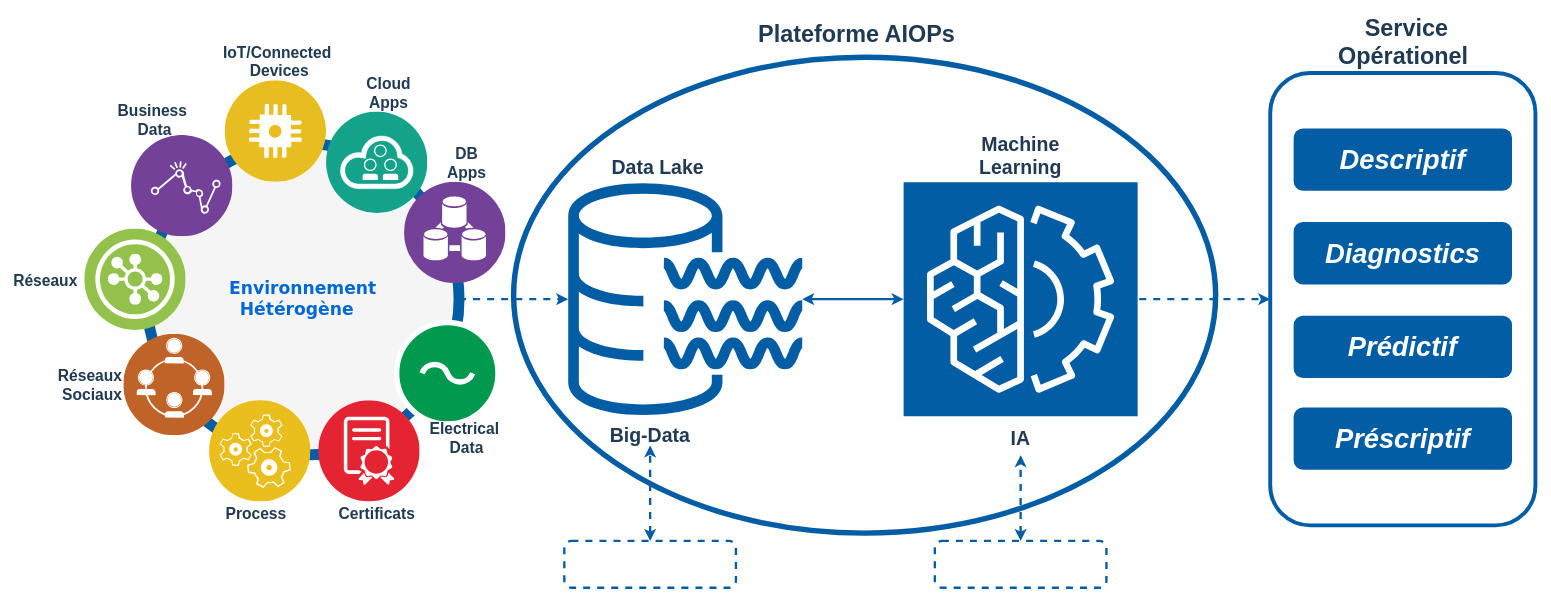
This 1551x602 diagram has some shape labels left out. The centre of each missing label's shape, as x and y in pixels:
"Data Architect" belongs at (650,564).
"Data Scientist" belongs at (1020,564).
